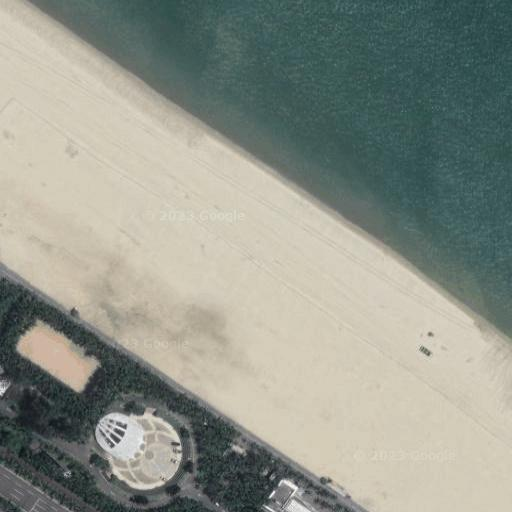building: (255, 474, 328, 512), (0, 364, 18, 397)
